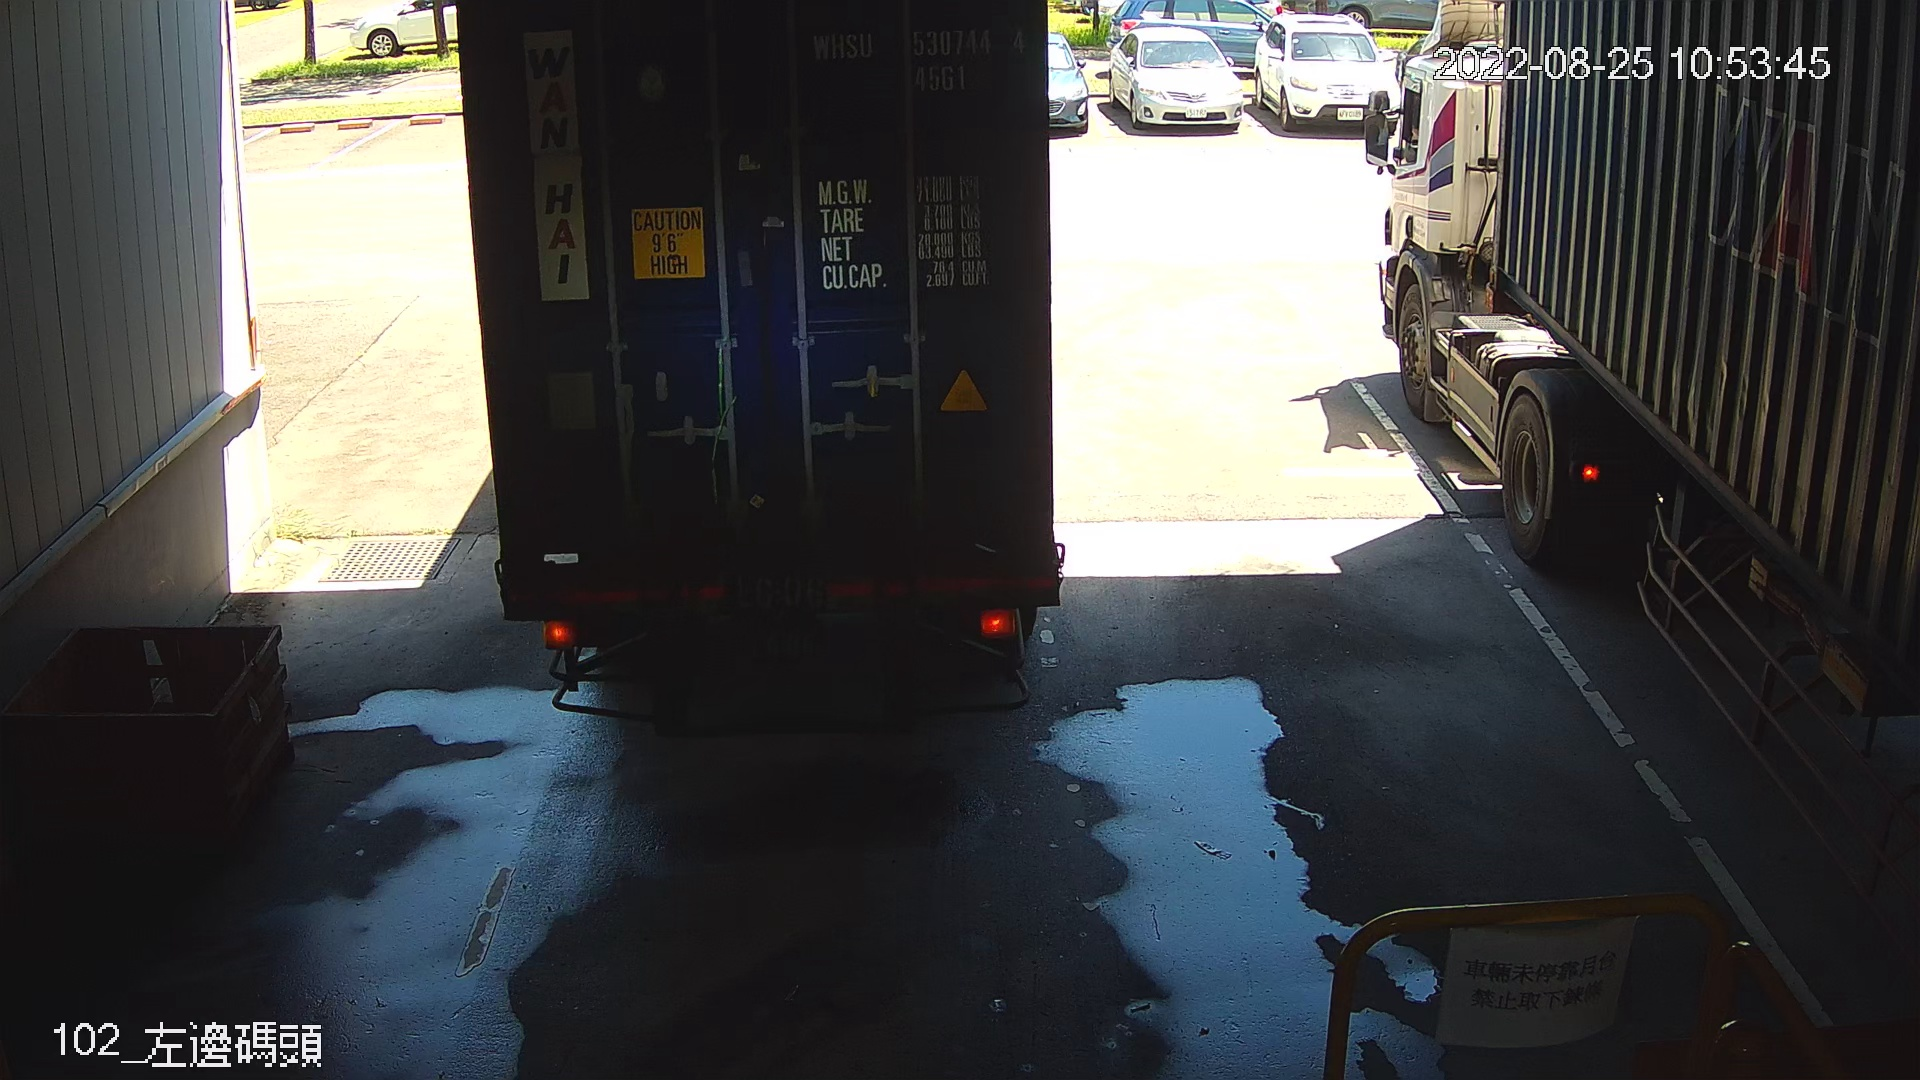container: (800, 20, 1039, 102)
